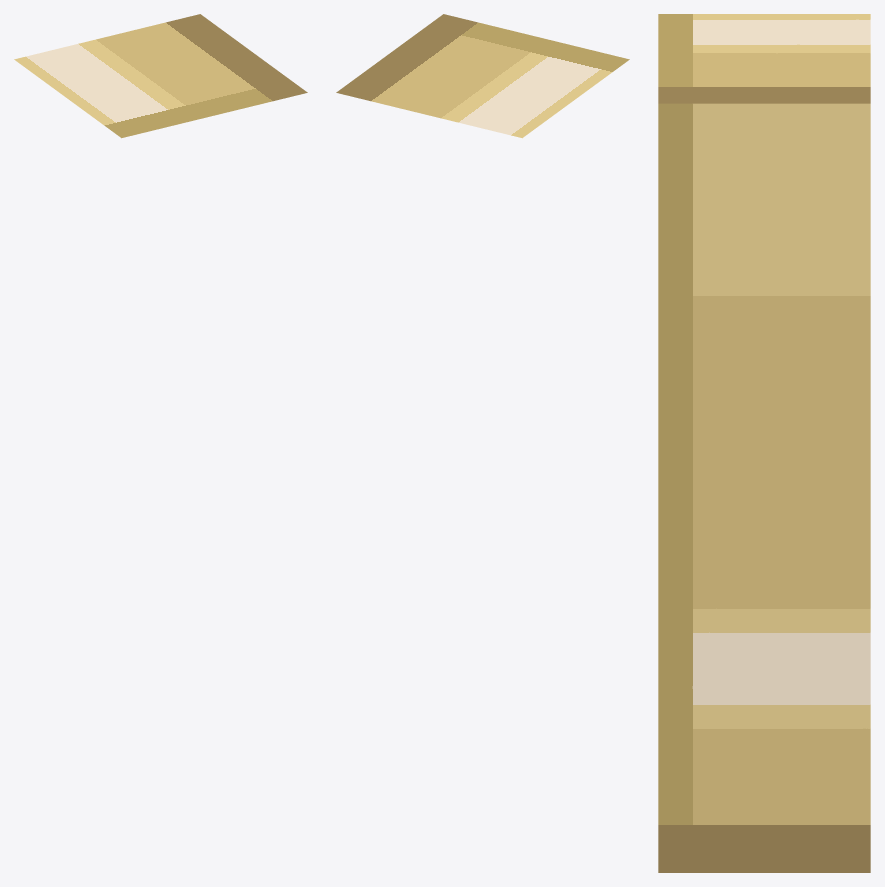
3 renders of one model, left to right at view 1: azimuth 30°, elevation 25°; view 2: azimuth 150°, elevation 25°; view 3: azimuth 270°, elevation 25°, orthographic.
Bounding box in the file's own units: 1 × 4 × 1.
1 material, 1 textured.
